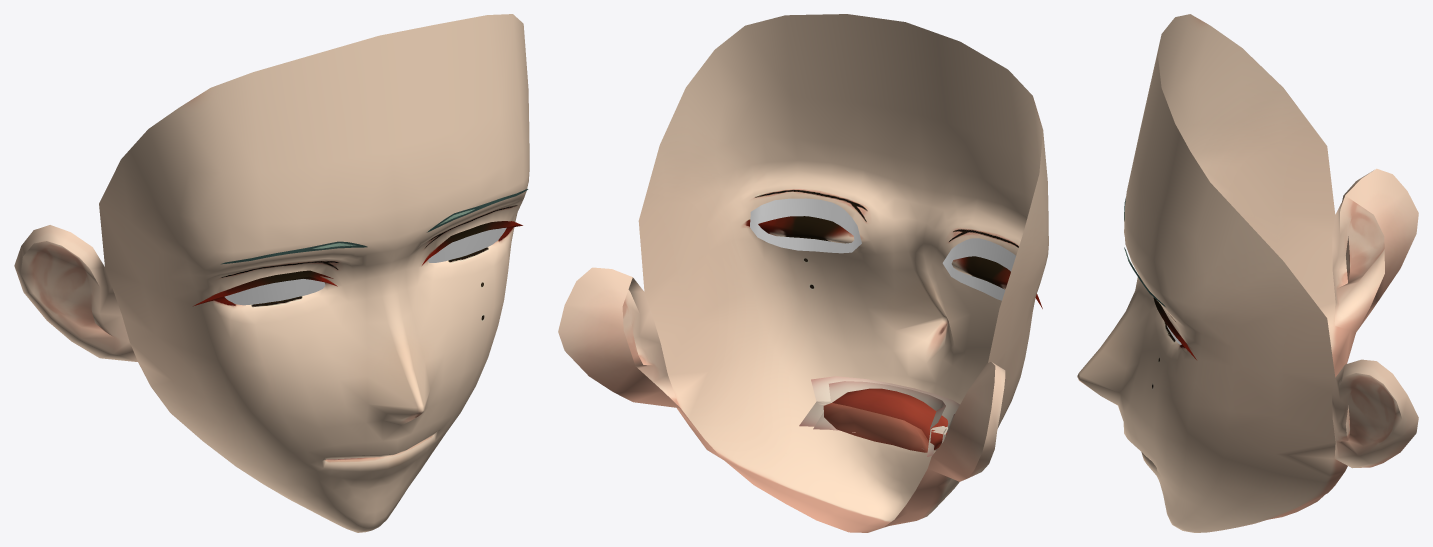
File: Tatsumi.fbx
3 views of the same model, side by side, from view 1: azimuth 30°, elevation 25°; view 2: azimuth 150°, elevation 25°; view 3: azimuth 270°, elevation 25° (orthographic). The views are drawn at different scales.
Parts seen in each view (by area): view 1: M_Head, M_Eye_B_Def, M_Mth_B_Def, M_PupALL_R_A_Def, M_PupALL_L_A_Def, M_Brw_B_Def; view 2: M_Head, M_Eye_B_Def, M_Mth_B_Def, M_PupALL_L_A_Def, M_PupALL_R_A_Def; view 3: M_Head, M_Eye_B_Def, M_Mth_B_Def.
Part boxes in pixels (left/top/right/bottom): M_Head: left=14, top=14, right=529, bottom=380; M_Eye_B_Def: left=129, top=139, right=529, bottom=413; M_Mth_B_Def: left=138, top=358, right=487, bottom=532; M_PupALL_R_A_Def: left=224, top=279, right=325, bottom=305; M_PupALL_L_A_Def: left=427, top=227, right=506, bottom=262; M_Brw_B_Def: left=220, top=189, right=528, bottom=264; M_Head: left=558, top=14, right=1048, bottom=481; M_Eye_B_Def: left=667, top=136, right=1048, bottom=420; M_Mth_B_Def: left=675, top=318, right=1009, bottom=532; M_PupALL_L_A_Def: left=750, top=198, right=861, bottom=253; M_PupALL_R_A_Def: left=942, top=238, right=1015, bottom=300; M_Head: left=1125, top=14, right=1418, bottom=468; M_Eye_B_Def: left=1077, top=123, right=1278, bottom=453; M_Mth_B_Def: left=1077, top=325, right=1355, bottom=532.
Bounding box in the file's own units: 0.1625 × 0.1733 × 0.1132.
5 materials, 3 textured.
